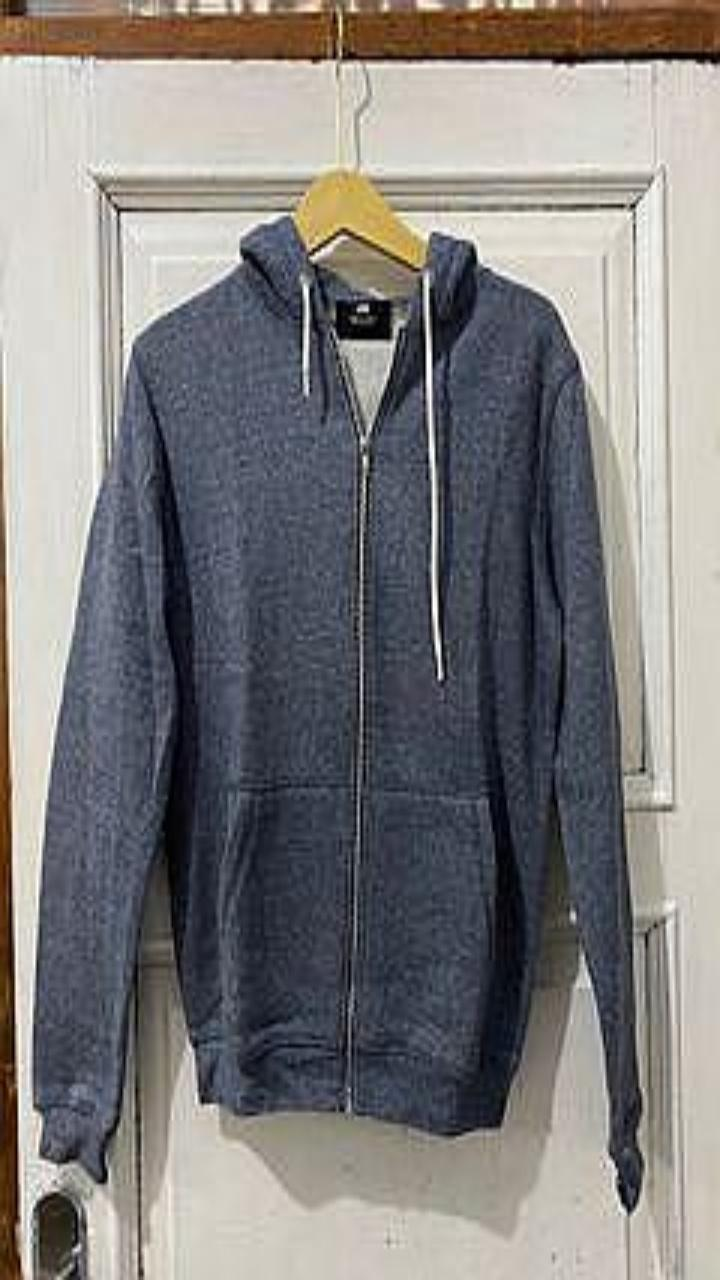Hoodie: (33, 214, 643, 1210)
